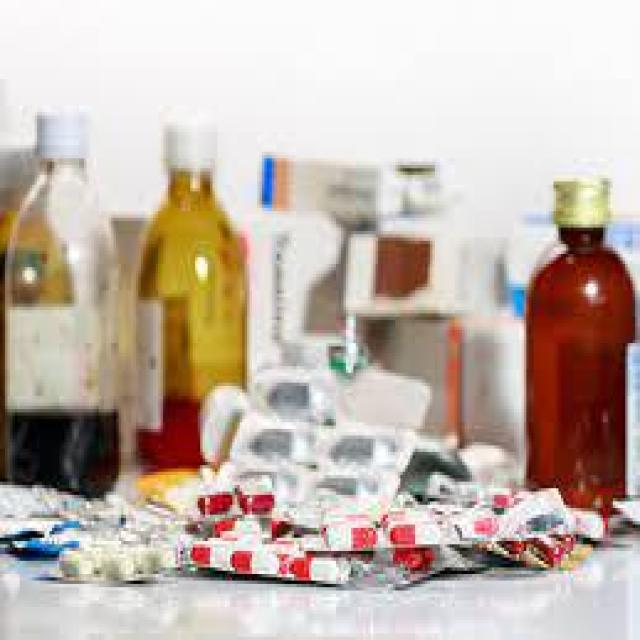B3: (2, 96, 136, 495), (506, 155, 640, 524), (128, 109, 264, 465)
